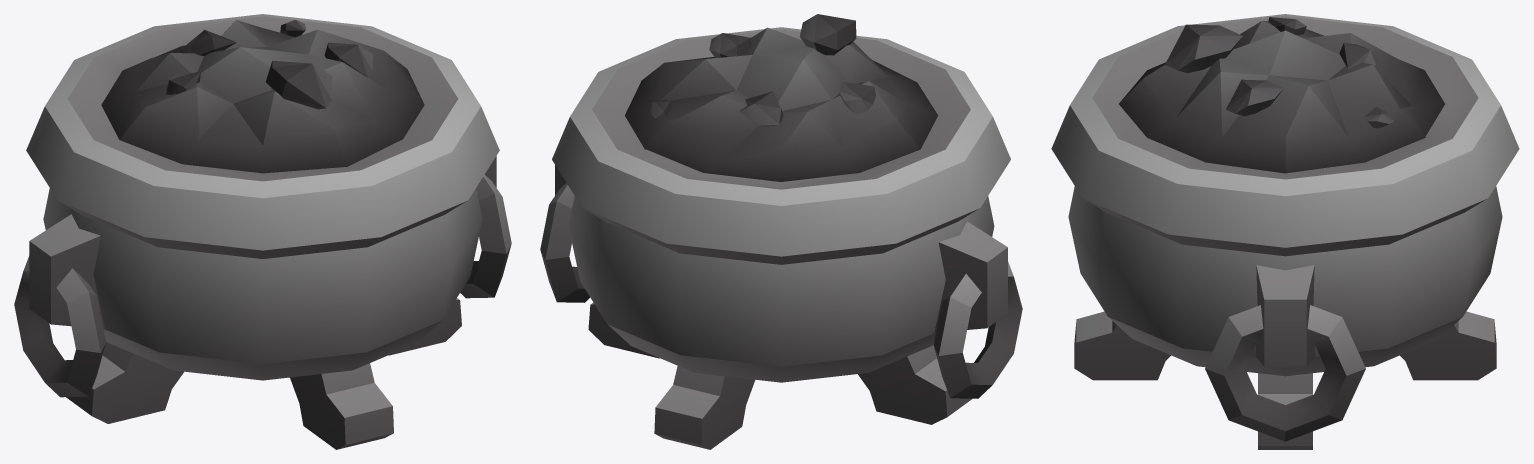
Rendered from brazier.glb.
3 renders of one model, left to right at view 1: azimuth 30°, elevation 25°; view 2: azimuth 150°, elevation 25°; view 3: azimuth 270°, elevation 25°, orthographic. The views are drawn at different scales.
Parts seen in each view (by area): view 1: brazier; view 2: brazier; view 3: brazier.
Part boxes in pixels (box(x1,y1,x2,y2)): brazier: box(14, 14, 511, 449); brazier: box(540, 14, 1022, 449); brazier: box(1051, 14, 1519, 449).
Size of the model in its own units: 0.8712 by 0.6336 by 0.8019.
Materials: 1 (1 with a texture image).
